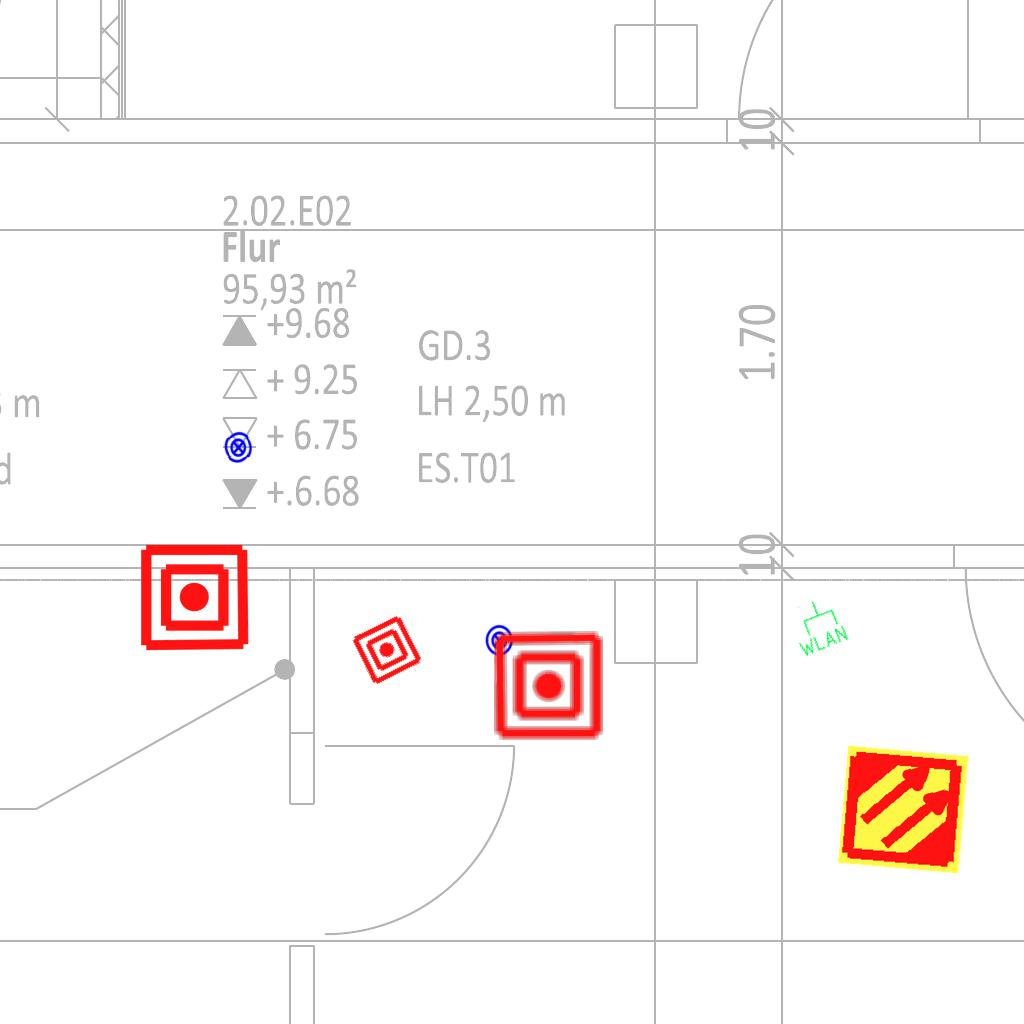ASR_Ansaugrauchmelder: (835, 741, 972, 878)
NAM-Nichtautomatischer_Melder: (138, 541, 251, 654), (492, 629, 605, 742), (349, 612, 425, 688)
Taster_beleuchtet: (221, 430, 256, 465), (483, 624, 516, 657)
WLAN: (783, 592, 851, 660)
